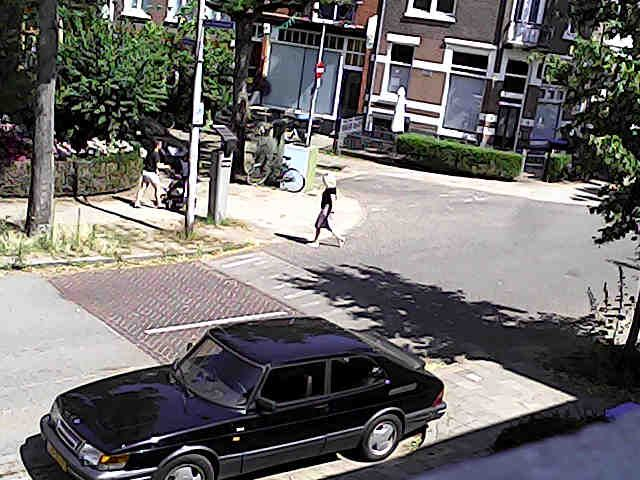male: (310, 173, 344, 247), (134, 138, 162, 207)
suv: (41, 318, 445, 479)
